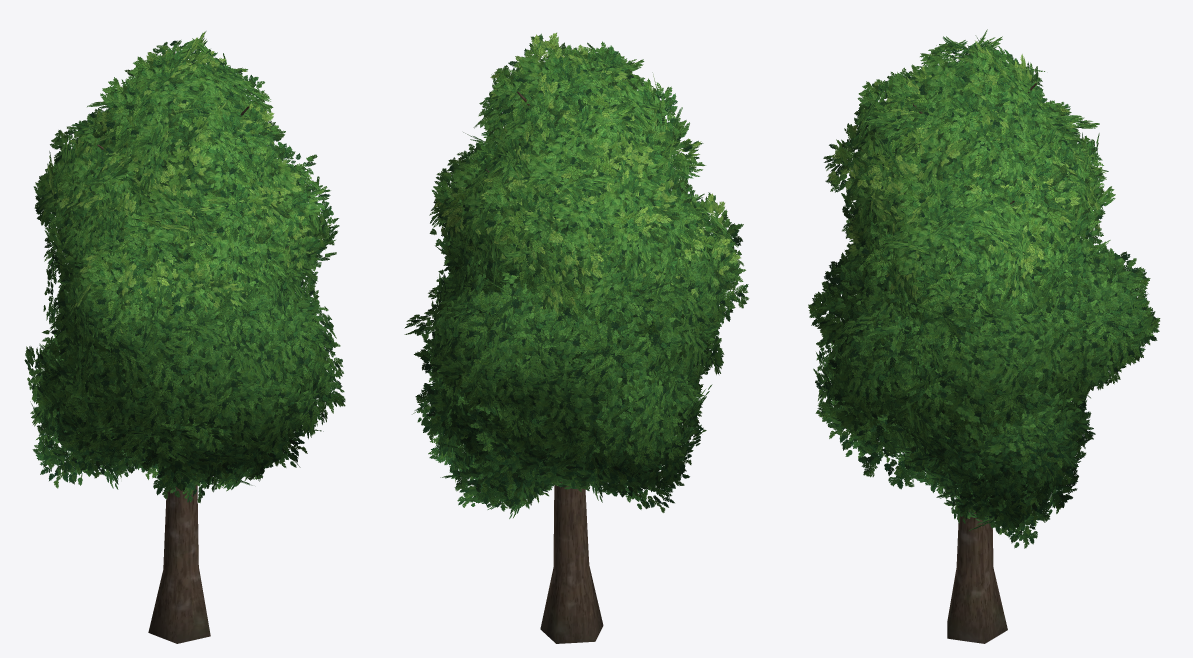
File: tree_mehgoni.glb
3 views of the same model, side by side, from view 1: azimuth 30°, elevation 25°; view 2: azimuth 150°, elevation 25°; view 3: azimuth 270°, elevation 25° (orthographic).
Visible parts, largest first — view 1: leaves, trunk; view 2: leaves, trunk; view 3: leaves, trunk.
Boxes of the visible parts, box(x1,y1,x2,y2) form: leaves: box(24, 31, 345, 502); trunk: box(97, 52, 293, 643); leaves: box(404, 32, 749, 518); trunk: box(485, 57, 618, 643); leaves: box(808, 29, 1160, 548); trunk: box(913, 83, 1036, 643).
Bounding box in the file's own units: 6.15 × 11.7 × 6.65.
2 materials, 2 textured.
